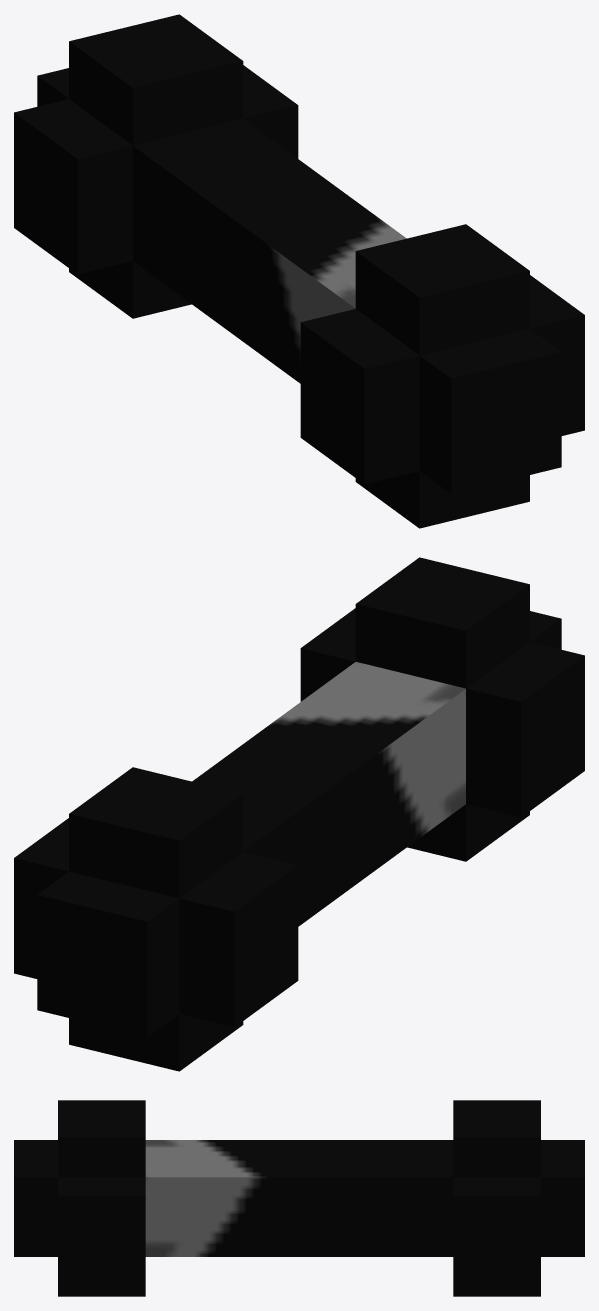
The model's file is Osso.obj.
The picture shows the model from 3 angles, top to bottom: view 1: azimuth 30°, elevation 25°; view 2: azimuth 150°, elevation 25°; view 3: azimuth 270°, elevation 25°; orthographic projection. The views are drawn at different scales.
Visible parts, largest first — view 1: Model; view 2: Model; view 3: Model.
Boxes of the visible parts, x1=… form: Model: x1=14, y1=14, x2=584, y2=528; Model: x1=14, y1=557, x2=584, y2=1071; Model: x1=14, y1=1100, x2=584, y2=1296.
Bounding box in the file's own units: 9.85 × 9.85 × 32.
Materials: 1 (1 with a texture image).
